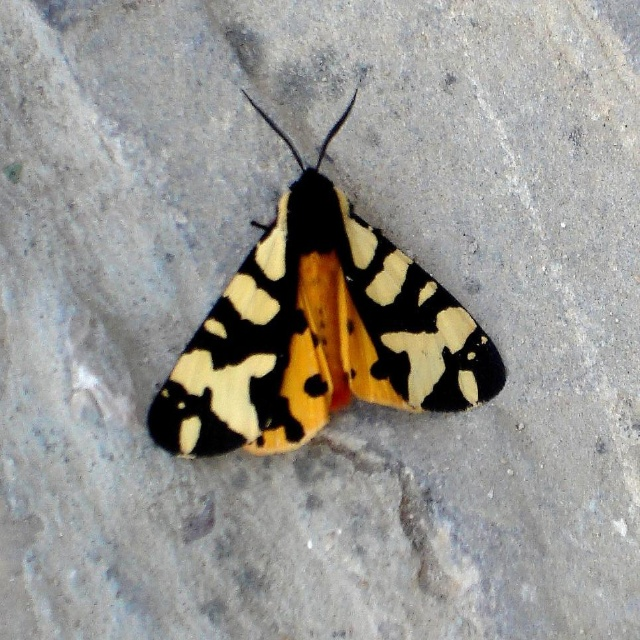Butterfly: (166, 88, 494, 485)
